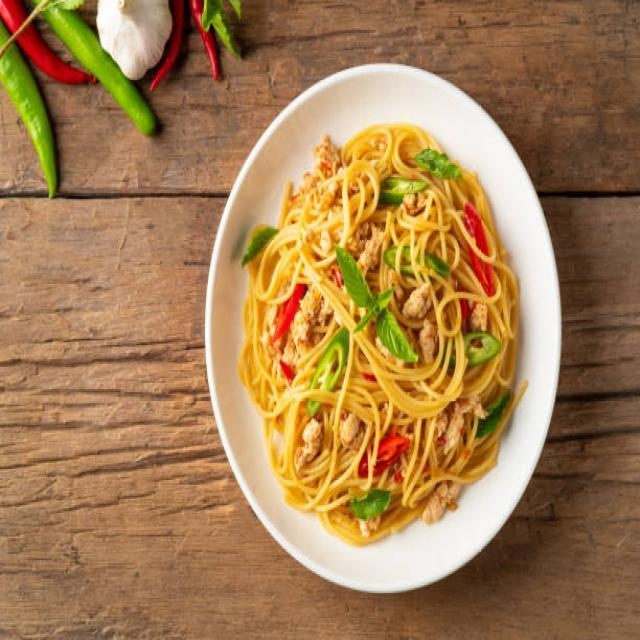cac loai rau cu: (313, 311, 351, 416), (332, 246, 382, 312), (419, 144, 470, 192), (374, 314, 419, 367), (471, 200, 499, 282), (233, 217, 281, 262), (366, 421, 406, 472), (457, 329, 501, 367), (480, 382, 509, 438), (355, 484, 390, 521)
mi ga hung que kem: (242, 117, 527, 538)
soi mi khoai lang: (387, 341, 476, 419), (259, 214, 316, 298), (397, 395, 439, 506), (282, 451, 360, 510), (347, 118, 423, 178), (242, 282, 275, 417), (341, 322, 385, 420), (497, 251, 524, 393), (346, 344, 394, 416), (411, 194, 460, 264), (467, 411, 518, 476), (344, 148, 390, 218), (264, 390, 299, 479), (315, 203, 347, 260), (280, 177, 315, 228)
thit ga: (410, 472, 464, 524), (291, 282, 322, 356), (352, 220, 383, 283), (394, 272, 434, 320), (437, 396, 463, 461), (414, 322, 446, 366), (296, 419, 322, 466), (314, 134, 339, 179), (360, 227, 383, 275), (337, 406, 360, 454), (402, 184, 434, 216), (265, 302, 279, 358), (471, 298, 491, 336)
